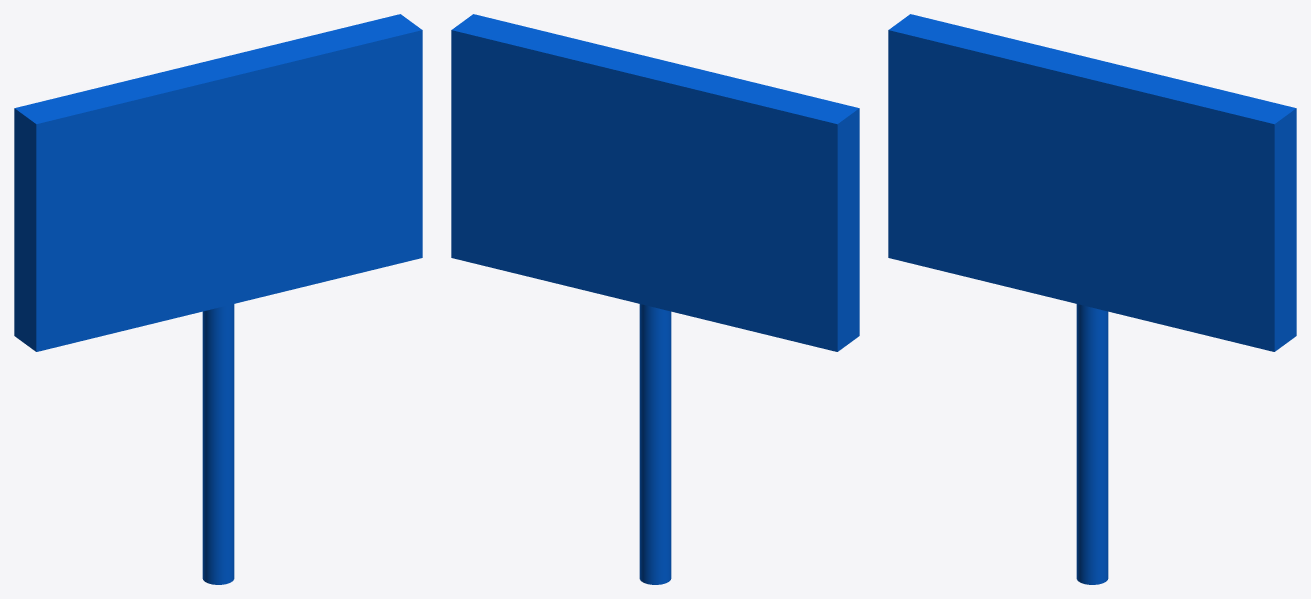
File: lvl3_sign.fbx
3 views of the same model, side by side, from view 1: azimuth 30°, elevation 25°; view 2: azimuth 150°, elevation 25°; view 3: azimuth 330°, elevation 25° (orthographic).
Parts seen in each view (by area): view 1: pCube24; view 2: pCube24; view 3: pCube24.
Part boxes in pixels (<box>): pCube24: <box>14,14,422,584</box>; pCube24: <box>451,14,859,584</box>; pCube24: <box>888,14,1296,584</box>.
Bounding box in the file's own units: 53.27 × 67.14 × 5.25.
